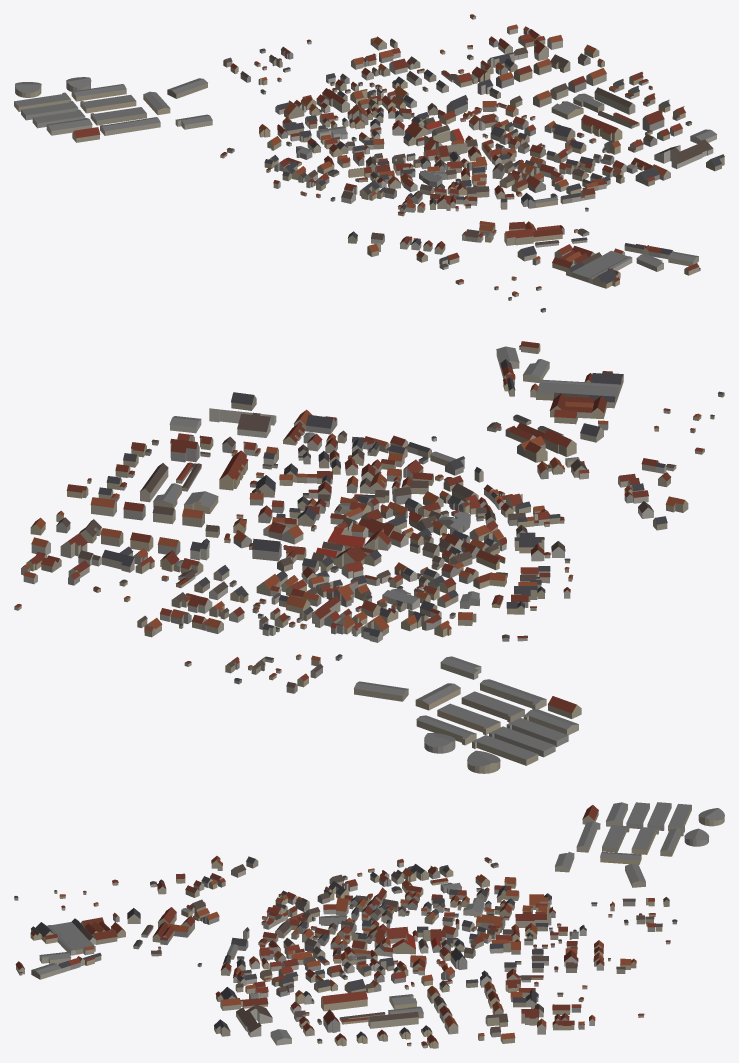
3 views of the same model, one above another, from view 1: azimuth 30°, elevation 25°; view 2: azimuth 150°, elevation 25°; view 3: azimuth 270°, elevation 25° (orthographic). The views are drawn at different scales.
Visible parts, largest first — view 1: buildings; view 2: buildings; view 3: buildings.
Part boxes in pixels (x1,y1,x2,y2): buildings: (14,14,724,312); buildings: (14,341,724,773); buildings: (14,802,724,1048).
Bounding box in the file's own units: 645 × 22.05 × 798.
